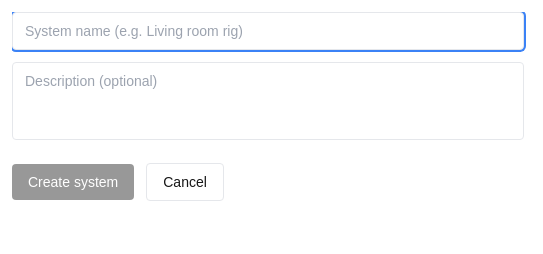
Test: CreateSystemForm › Submission › shows a network error message when fetch throws
Type "My rig" into the field with placeholder "System name (e.g. Living room rig)" at (268, 31), box [12,12,524,50]
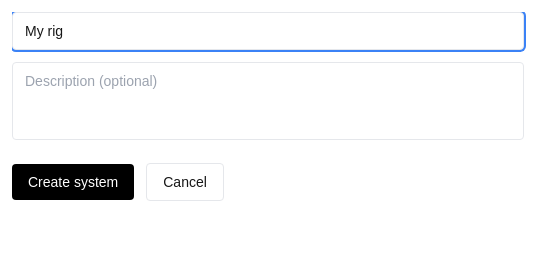
Click the button "Create system" at (73, 182), box [12,164,134,200]
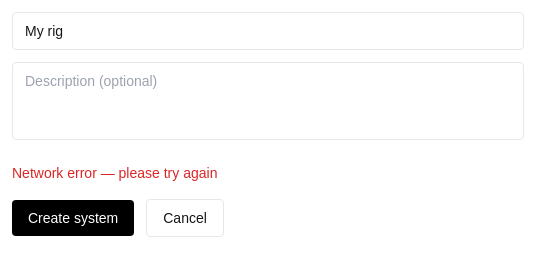
Check: the text "Network error — please try again" is shown, box [12,165,217,181]
